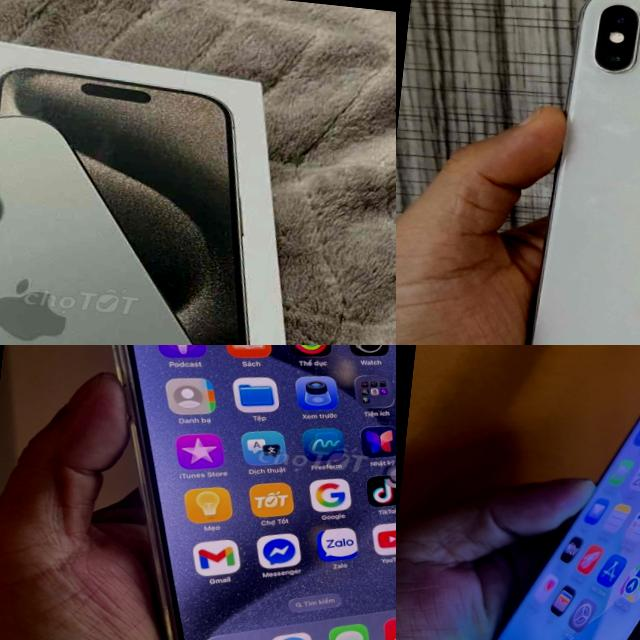gen_12_13: (454, 345, 640, 640)
gen_15: (41, 345, 396, 640), (0, 85, 339, 345)
gen_x_xs: (526, 0, 640, 345)
